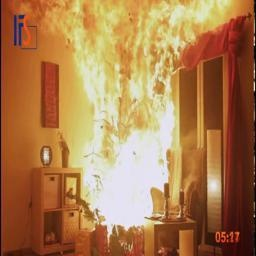fire: (41, 0, 213, 227)
